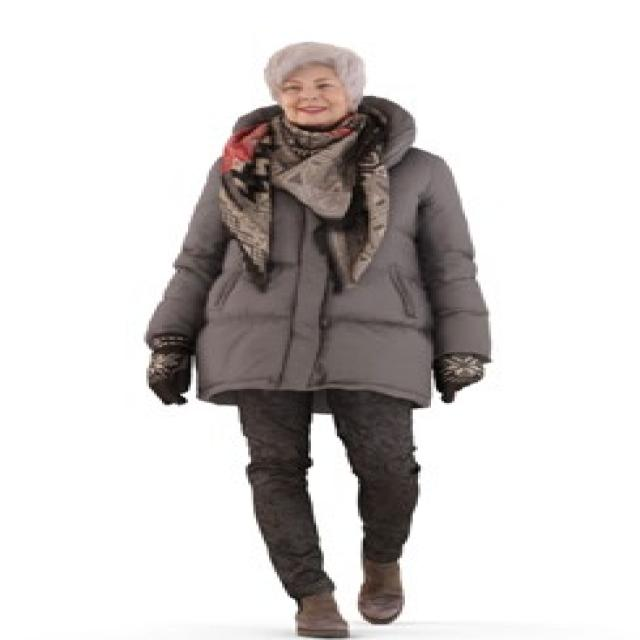standing: (141, 38, 500, 640)
